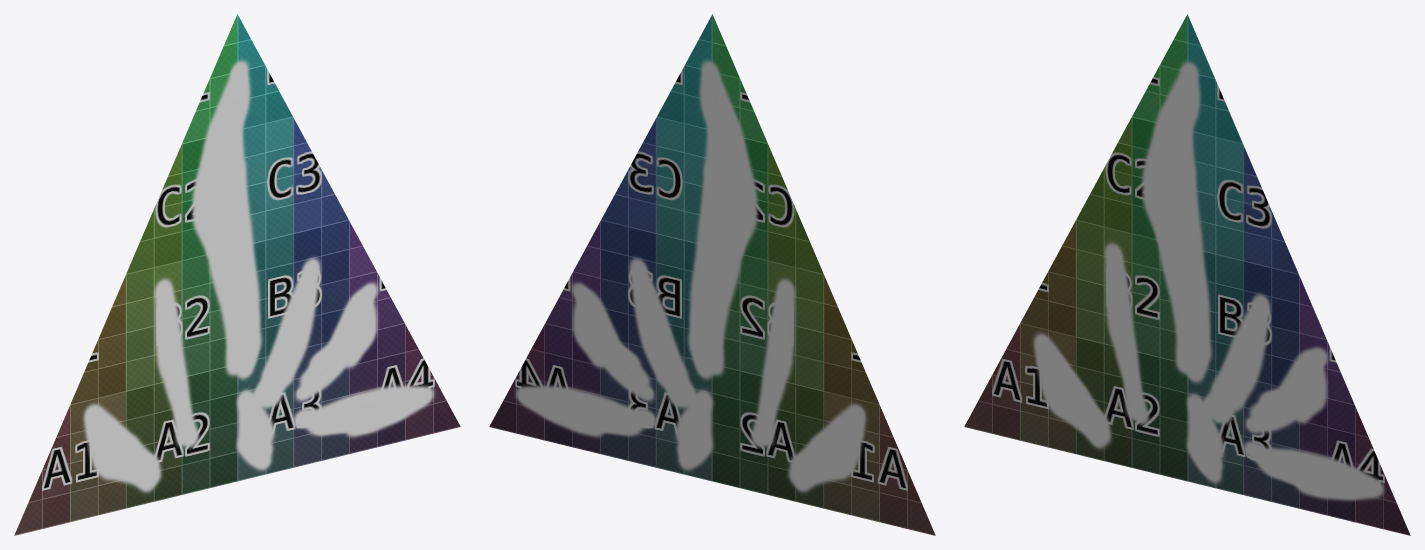
Rendered from Effect1.gltf.
3 views of the same model, side by side, from view 1: azimuth 30°, elevation 25°; view 2: azimuth 150°, elevation 25°; view 3: azimuth 330°, elevation 25° (orthographic).
Parts seen in each view (by area): view 1: 平面; view 2: 平面; view 3: 平面.
Part boxes in pixels (<box>): 平面: <box>14,14,460,535</box>; 平面: <box>489,14,935,535</box>; 平面: <box>964,14,1410,535</box>.
Bounding box in the file's own units: 1 × 1 × 2.52e-07.
1 material, 1 textured.
